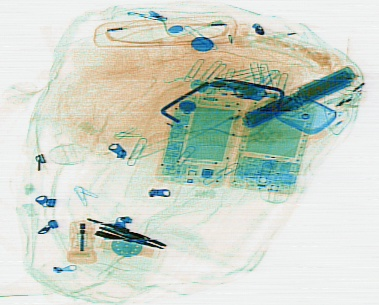powerbank: (231, 64, 358, 131)
